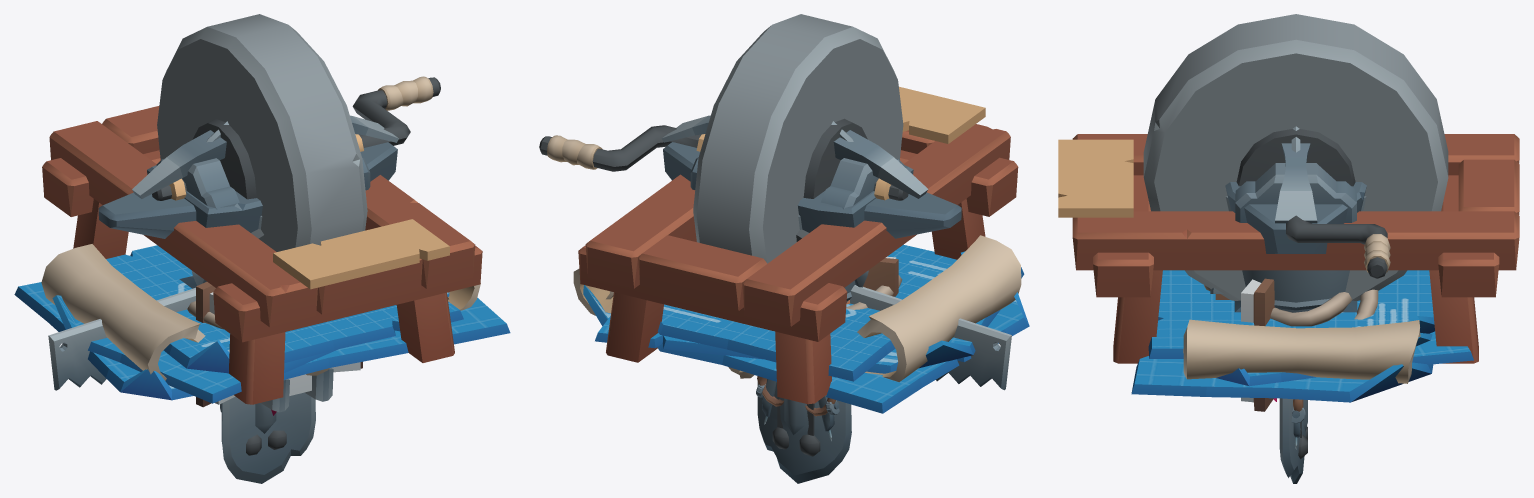
Rendered from tools.glb.
The picture shows the model from 3 angles, left to right: view 1: azimuth 30°, elevation 25°; view 2: azimuth 150°, elevation 25°; view 3: azimuth 270°, elevation 25°; orthographic projection.
Parts seen in each view (by area): view 1: grindstone, grindstone__grindstone_wheel, blueprint_stacked__blueprint_stacked, map__map, anvil__anvil, shovel__shovel, saw__saw, pickaxe__pickaxe, journal_closed__journal_closed, journal_open__journal_open; view 2: grindstone, grindstone__grindstone_wheel, blueprint_stacked__blueprint_stacked, map__map, anvil__anvil, shovel__shovel, saw__saw, pickaxe__pickaxe, journal_open__journal_open, tongs__tongs_part; view 3: grindstone__grindstone_wheel, grindstone, blueprint_stacked__blueprint_stacked, map__map, anvil__anvil, bucket_metal, pickaxe__pickaxe, rope_bundle_B__rope_bundle_B, journal_open__journal_open, shovel__shovel.
Part boxes in pixels (left/top/right/bottom): grindstone: left=42, top=106, right=482, bottom=404; grindstone__grindstone_wheel: left=152, top=14, right=440, bottom=251; blueprint_stacked__blueprint_stacked: left=14, top=245, right=510, bottom=403; map__map: left=41, top=244, right=480, bottom=380; anvil__anvil: left=98, top=142, right=397, bottom=288; shovel__shovel: left=221, top=392, right=315, bottom=483; saw__saw: left=48, top=287, right=195, bottom=390; pickaxe__pickaxe: left=132, top=115, right=398, bottom=198; journal_closed__journal_closed: left=261, top=368, right=333, bottom=415; journal_open__journal_open: left=196, top=282, right=362, bottom=407; grindstone: left=578, top=86, right=1018, bottom=404; grindstone__grindstone_wheel: left=539, top=14, right=908, bottom=263; blueprint_stacked__blueprint_stacked: left=583, top=244, right=1029, bottom=413; map__map: left=573, top=235, right=1021, bottom=382; anvil__anvil: left=663, top=142, right=961, bottom=238; shovel__shovel: left=757, top=379, right=851, bottom=483; saw__saw: left=846, top=285, right=1011, bottom=390; pickaxe__pickaxe: left=662, top=115, right=928, bottom=198; journal_open__journal_open: left=863, top=256, right=898, bottom=296; tongs__tongs_part: left=799, top=403, right=820, bottom=456; grindstone__grindstone_wheel: left=1143, top=14, right=1448, bottom=300; grindstone: left=1058, top=134, right=1519, bottom=363; blueprint_stacked__blueprint_stacked: left=1131, top=270, right=1473, bottom=402; map__map: left=1183, top=319, right=1420, bottom=383; anvil__anvil: left=1225, top=182, right=1366, bottom=312; bucket_metal: left=1226, top=196, right=1366, bottom=312; pickaxe__pickaxe: left=1275, top=143, right=1317, bottom=223; rope_bundle_B__rope_bundle_B: left=1270, top=289, right=1378, bottom=326; journal_open__journal_open: left=1241, top=278, right=1276, bottom=411; shovel__shovel: left=1279, top=398, right=1307, bottom=483.
Size of the model in its own units: 2.46 by 2.48 by 2.27.
5 materials, 4 textured.
